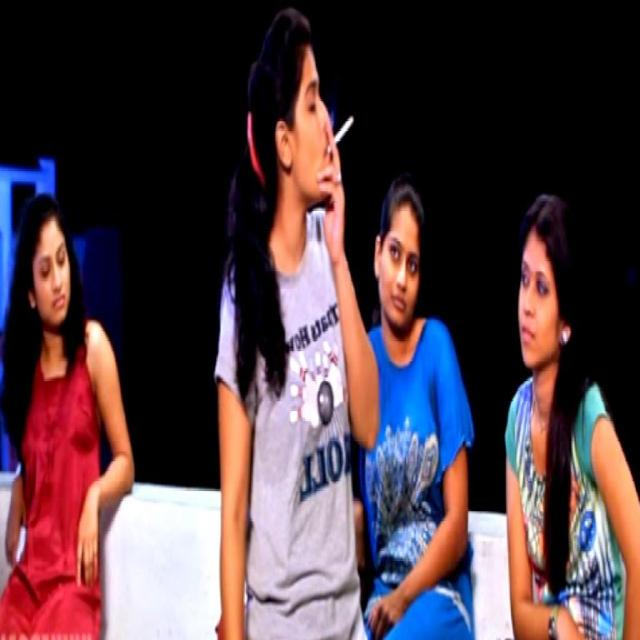smoking: (224, 4, 362, 271)
